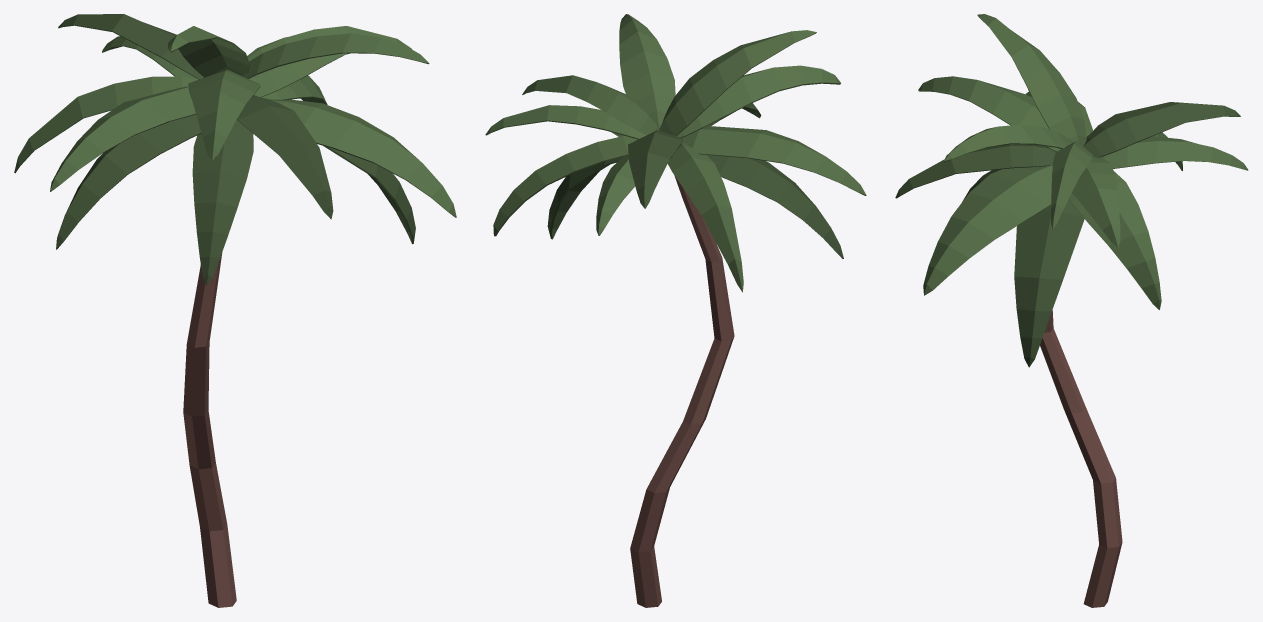
The model's file is palmtree_1.004_lev1.glb.
The picture shows the model from 3 angles, left to right: view 1: azimuth 30°, elevation 25°; view 2: azimuth 150°, elevation 25°; view 3: azimuth 270°, elevation 25°; orthographic projection. The views are drawn at different scales.
Parts seen in each view (by area): view 1: palmtree_1.004_lev1; view 2: palmtree_1.004_lev1; view 3: palmtree_1.004_lev1.
Part boxes in pixels (box(x1,y1,x2,y2)): palmtree_1.004_lev1: box(14, 14, 456, 607); palmtree_1.004_lev1: box(485, 14, 866, 607); palmtree_1.004_lev1: box(895, 14, 1248, 607).
Size of the model in its own units: 2.84 by 4.47 by 2.64.
